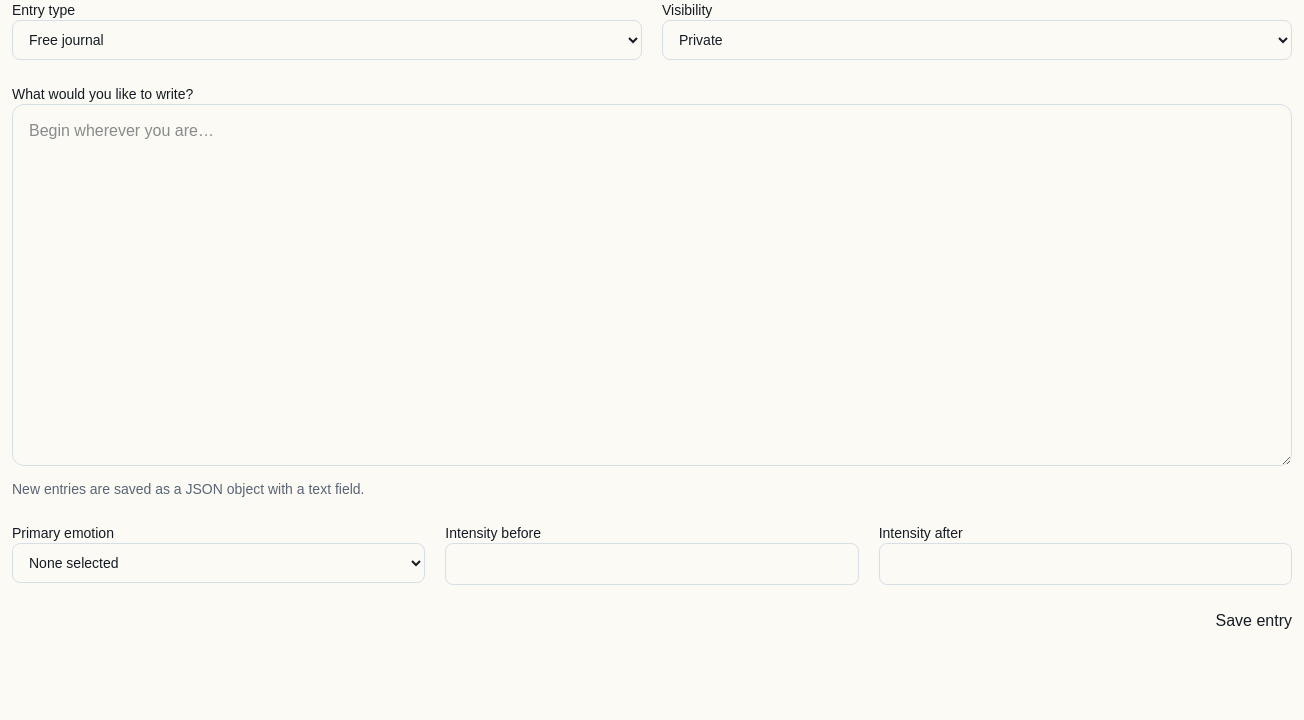
diary creation recipients › blocks saving during lookup and after an error until retry succeeds
The image size is (1304, 720).
Later steps or results of the test are not shown.
Type "A diary entry" into the text box with placeholder "Begin wherever you are…".
click(652, 285); type("A diary entry")  # box [12,104,1292,466]
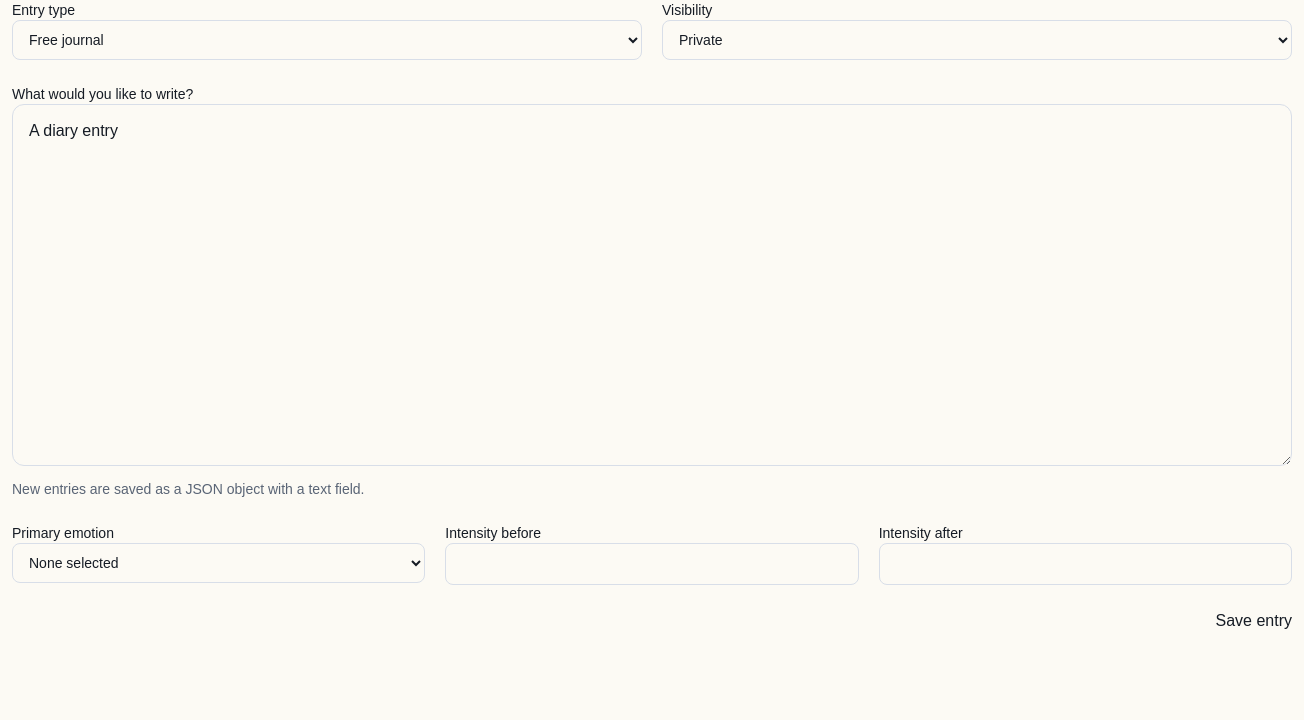
Select "Share with counselor" in the dropdown labelled "Visibility" at (977, 40), box [662,20,1292,60]
(page scrolled)
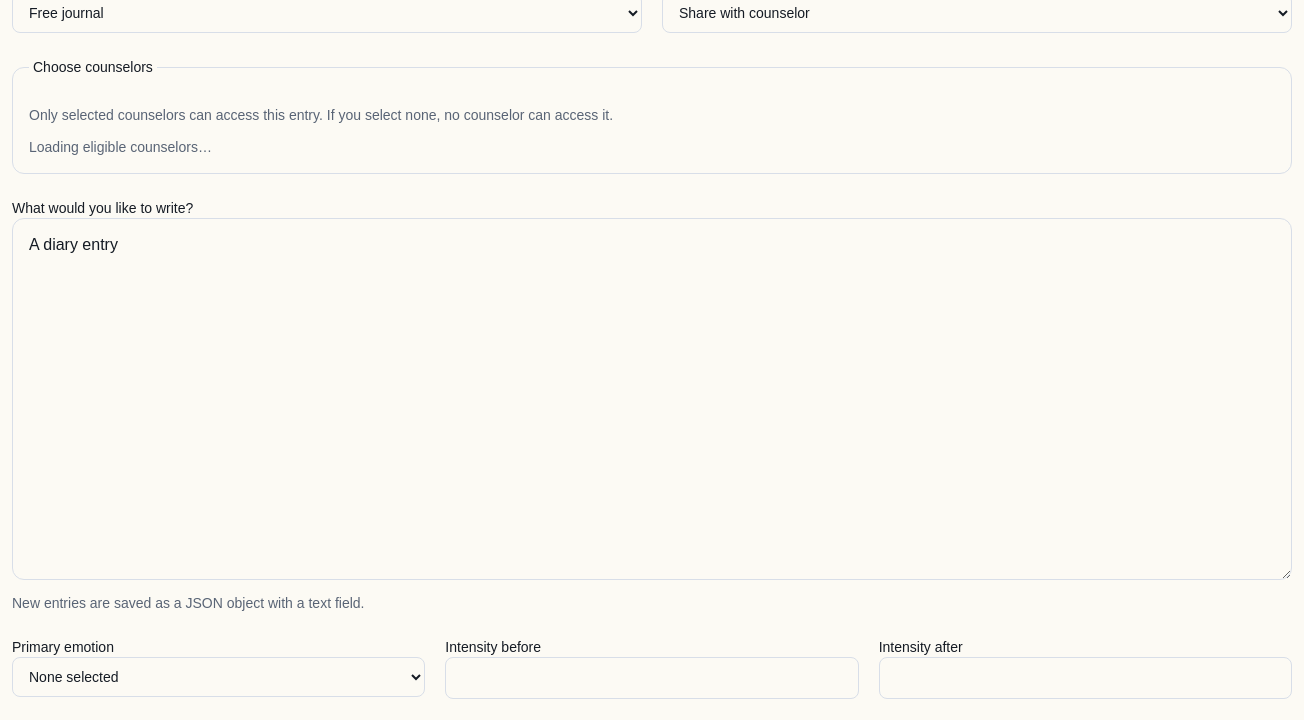
Submit the form named "Save entry"
(page scrolled)
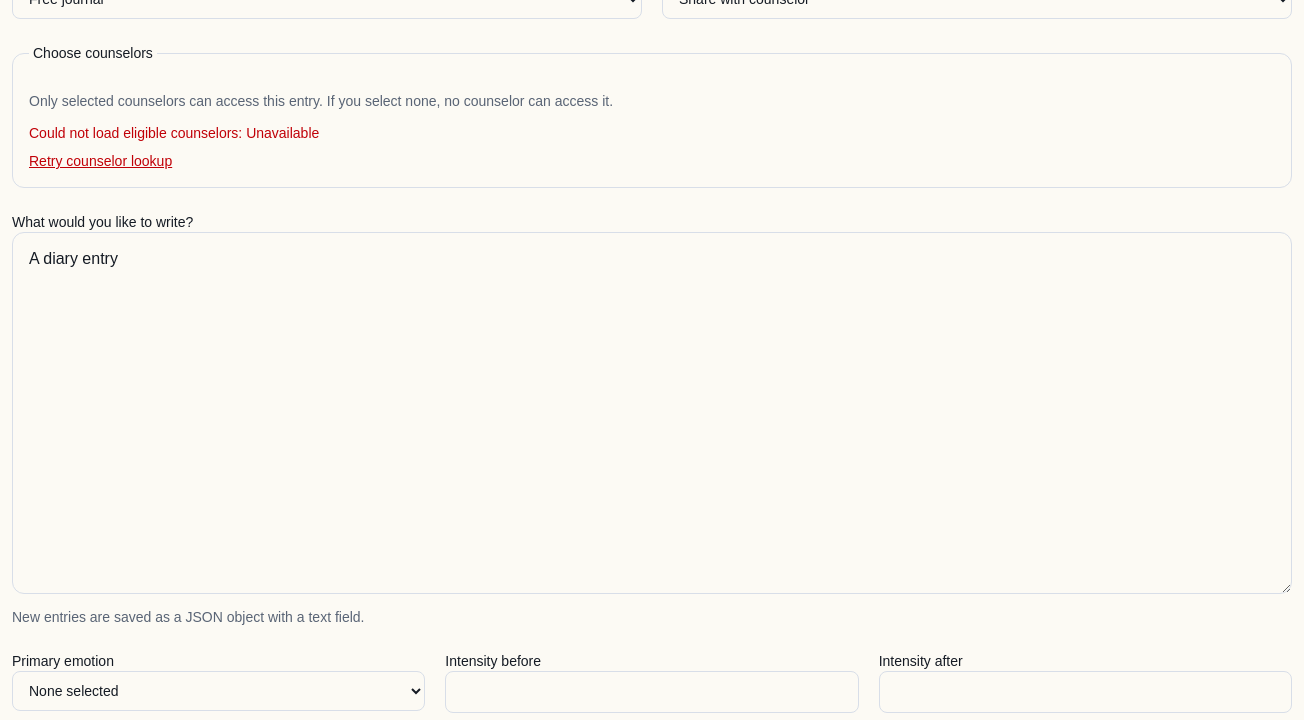
Result: the message shows "Unavailable" at [246,125,319,141]
Submit the form named "Save entry"
Click the button "Retry counselor lookup".
click(101, 161)  # box [29,151,172,171]
(page scrolled)
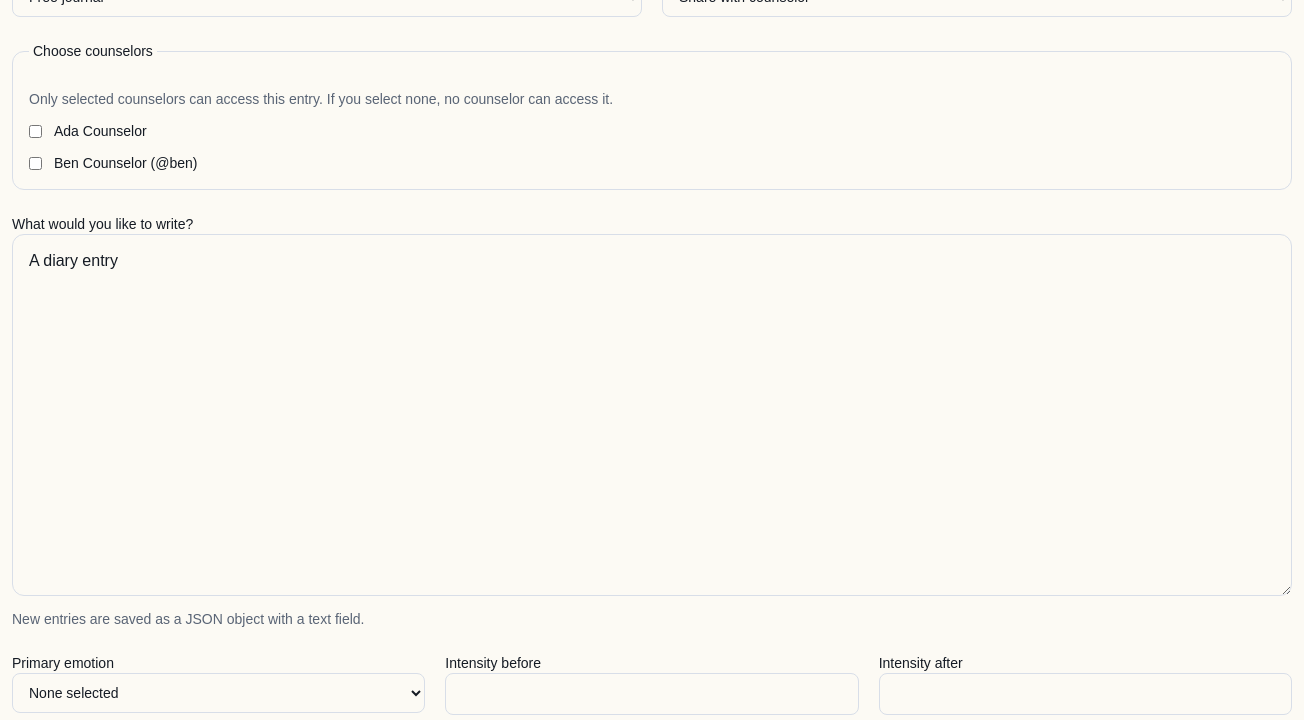
Result: the checkbox labelled "Ada Counselor" is shown at [29,124,42,138]
